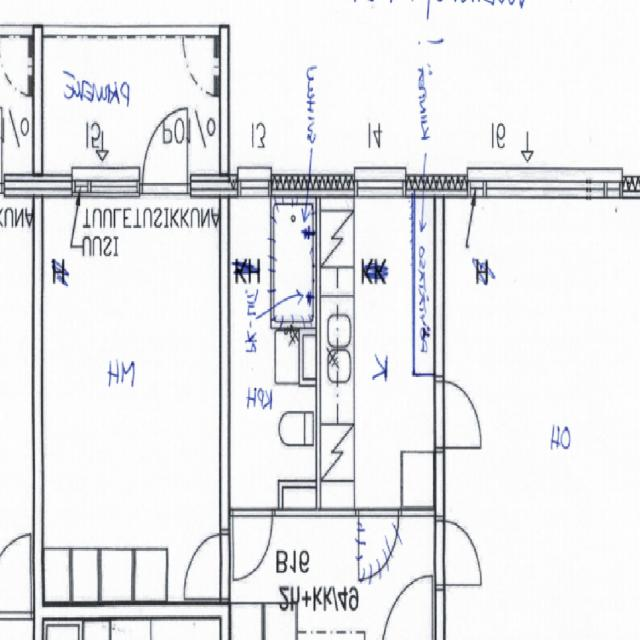door: (144, 107, 188, 193), (382, 574, 433, 640), (436, 380, 486, 447), (182, 534, 230, 600), (437, 520, 483, 585), (233, 508, 272, 584)
